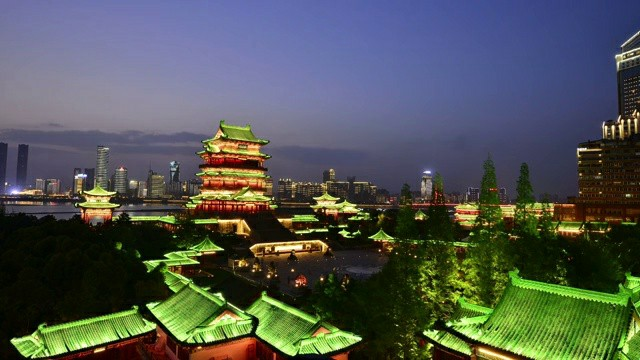Teng: (185, 119, 279, 214)
